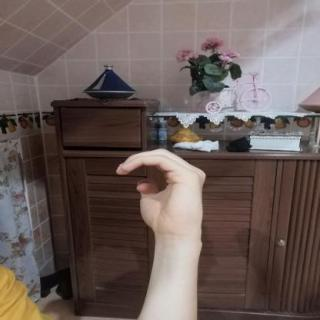JEEM: (107, 141, 218, 242)
